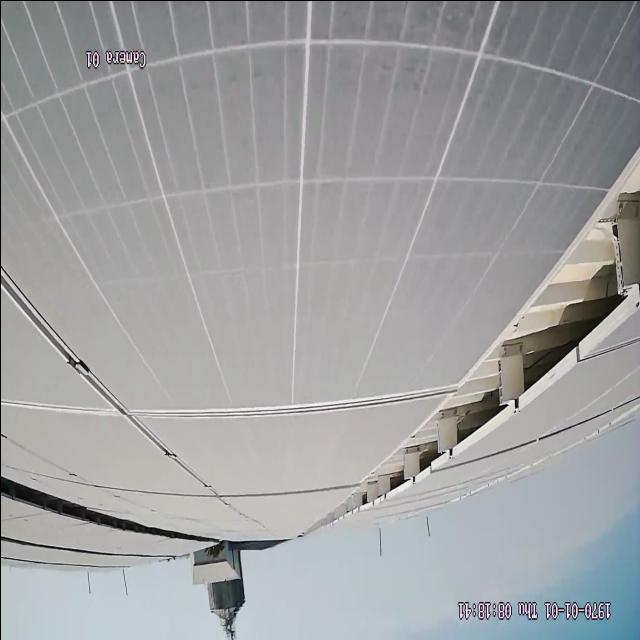interior panel: (2, 260, 445, 493)
outher panel: (309, 153, 640, 528), (1, 477, 165, 534)
